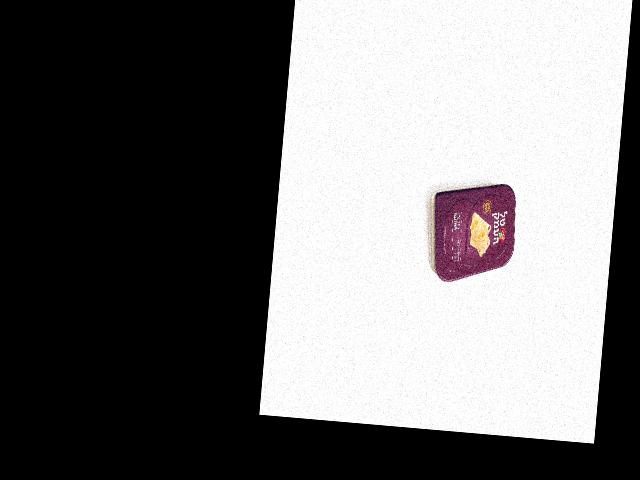cheese: (422, 177, 520, 287)
